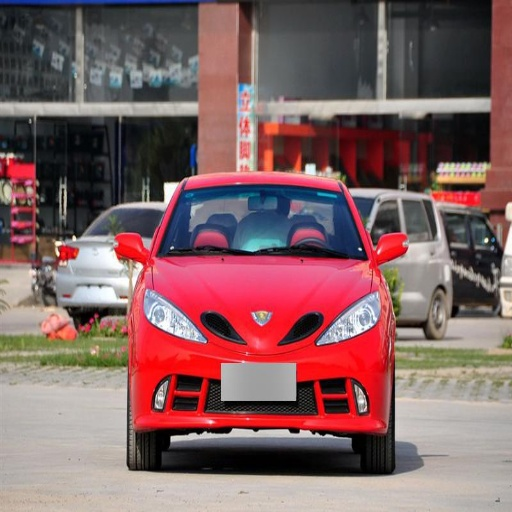front_bumper: (136, 325, 387, 432)
front_right_light: (143, 291, 199, 339)
hood: (148, 256, 376, 340)
trunk: (218, 336, 305, 365)
